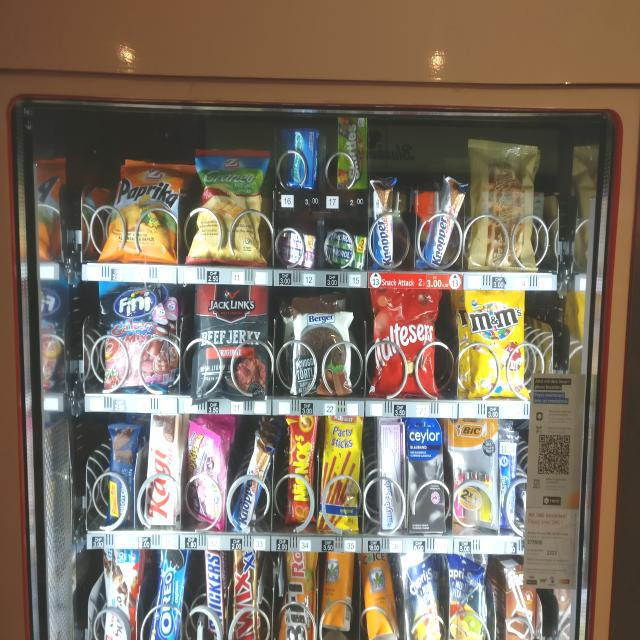airwaves_menthoneucalyptus_riegel_14_1_50173167: (286, 129, 318, 201)
berger_schoggitoertli____: (292, 302, 354, 392)
bifi_roll__50__4251097402635: (280, 549, 316, 640)
bueno___43__4008400320328: (104, 549, 140, 640)
c-swiss_dosenabisicetea__33__9120025930135: (359, 549, 399, 640), (323, 550, 356, 632)
caprisun_multivitamin__20__4000177605004: (400, 552, 445, 640), (448, 552, 489, 640)
comella_schokodrink__33__7613100037253: (501, 563, 535, 640)
fini_galaxymix_packung_100_1_8410525150364: (101, 279, 173, 391), (189, 421, 231, 533)
jacklinks_beefjerkyorginal__25__4047751730219: (193, 285, 270, 403)
jlbrichard_gauffre__90__5410495002000: (465, 132, 535, 268)
kagi___50__7610046000259: (143, 412, 180, 524)
knoppers_riegel____4035800488808: (232, 436, 272, 530), (423, 176, 464, 264), (369, 177, 395, 266)
lorenz_nicnacs__40__4018077798818: (285, 411, 319, 525)
malburner_partysticks__40__7610200279682: (321, 409, 361, 534)
maltesers___100__5000159023061: (370, 286, 439, 395)
mnms_gelb__45__40111445: (464, 290, 526, 397)
oreo___66__84100733: (149, 548, 186, 640)
powerbar_proteinplusschoko__55__4029679520028: (108, 423, 137, 526)
skittles_sour_riegel_51_1_: (334, 112, 368, 189)
snickers___50__5000159461122: (202, 549, 230, 640)
stimorol_spearmint_riegel_14_1_: (320, 226, 369, 272)
stimorol_wildcherry_riegel_14_1_57060330: (277, 226, 316, 269)
twix___50__5000159459228: (231, 550, 258, 640)
zweifel_graneochilli__100__7610095184009: (192, 146, 265, 264)
zweifel_paprika__90__7610095013002: (110, 158, 184, 264)
